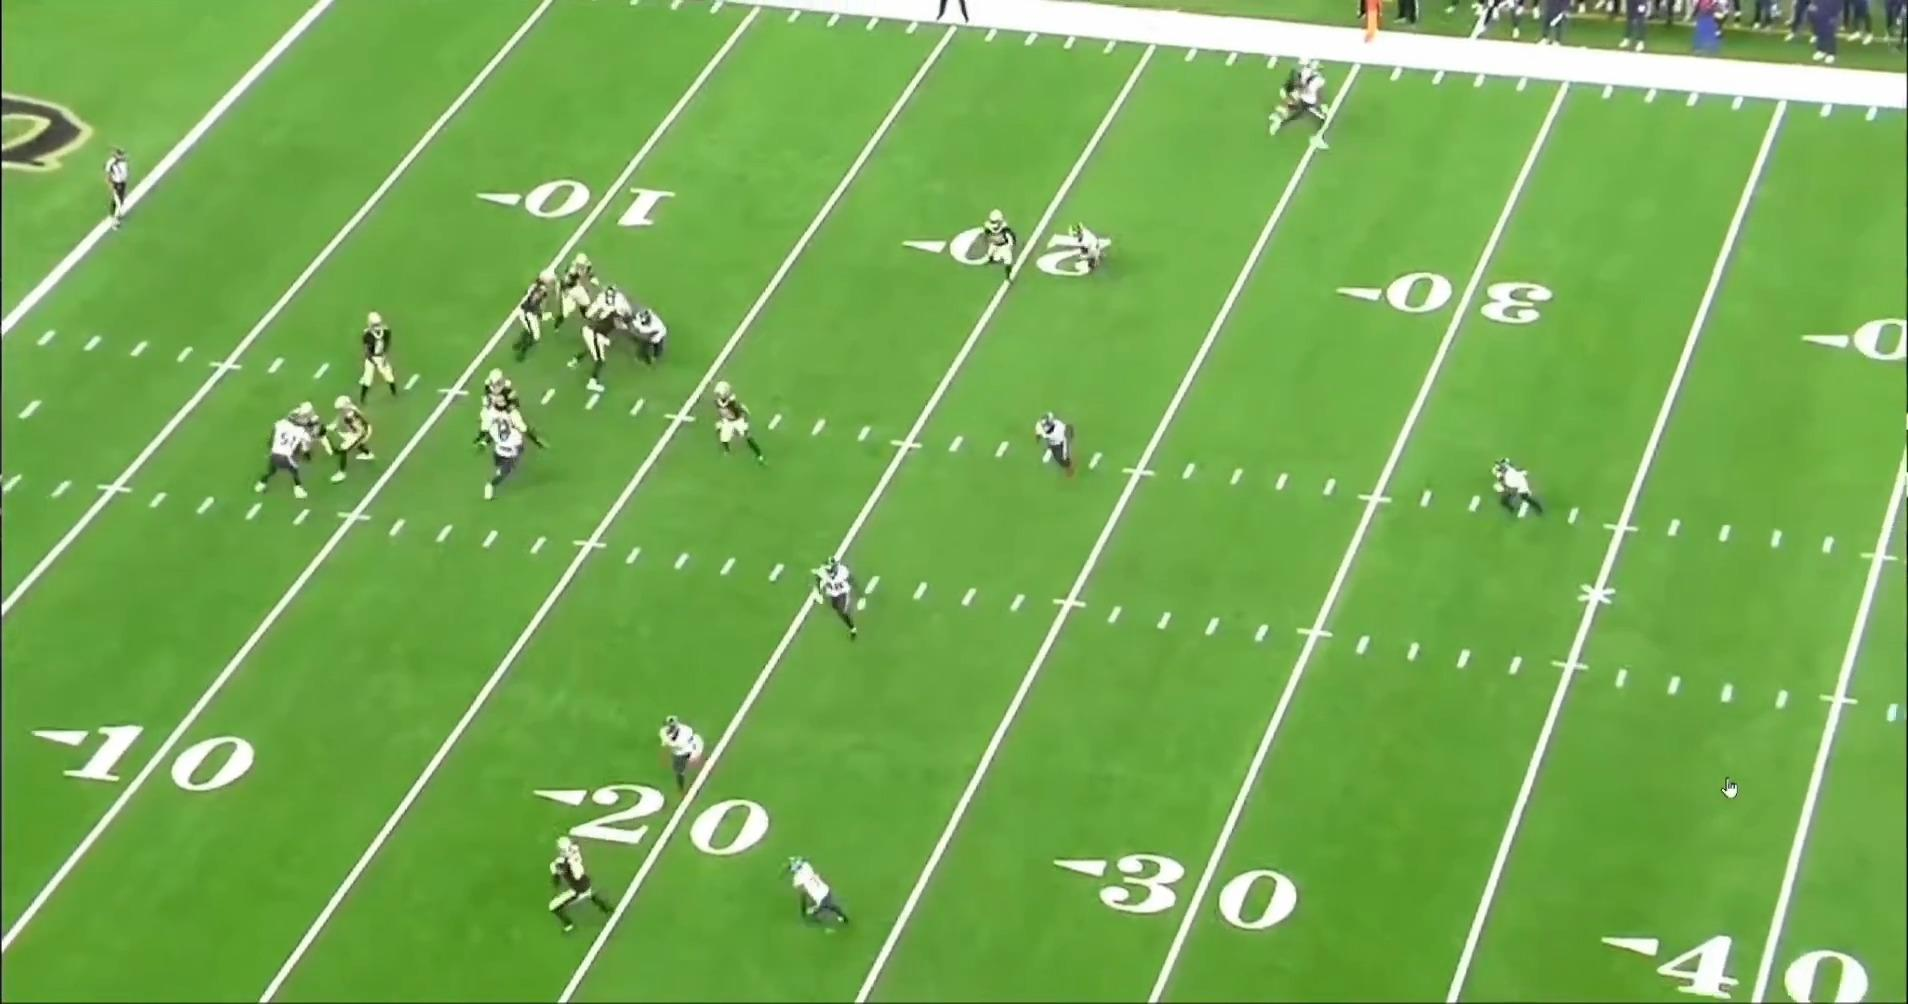player: (558, 290, 628, 405), (533, 835, 604, 940), (1265, 62, 1333, 152), (479, 364, 545, 453), (793, 854, 861, 937), (247, 414, 306, 507), (706, 374, 766, 464), (483, 405, 537, 503), (505, 265, 558, 362), (324, 394, 377, 488), (658, 714, 713, 802), (354, 304, 401, 402), (818, 559, 872, 644), (1486, 458, 1549, 528), (285, 404, 335, 487), (1263, 55, 1315, 125), (550, 252, 595, 332), (617, 302, 668, 369), (1038, 412, 1085, 484), (979, 211, 1021, 289), (1063, 223, 1112, 278), (586, 284, 633, 318)
ref: (103, 142, 137, 234), (931, 0, 981, 26)
